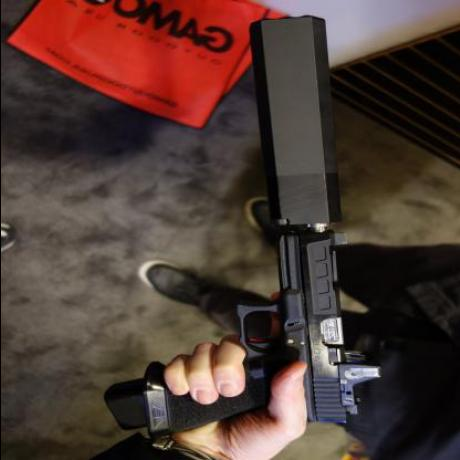1: (161, 339, 314, 460)
weapon: (110, 20, 386, 436)
